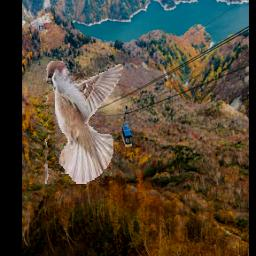Sparrow: (46, 62, 125, 185)
